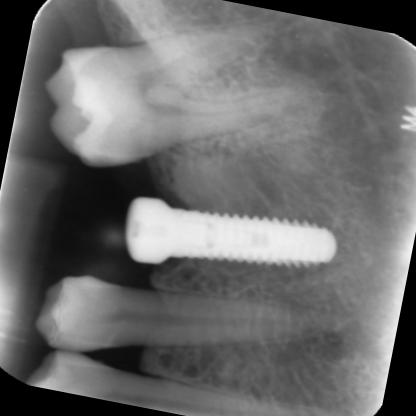Bego: (111, 173, 350, 303)
